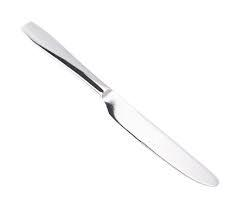Knife: (21, 20, 219, 187)
